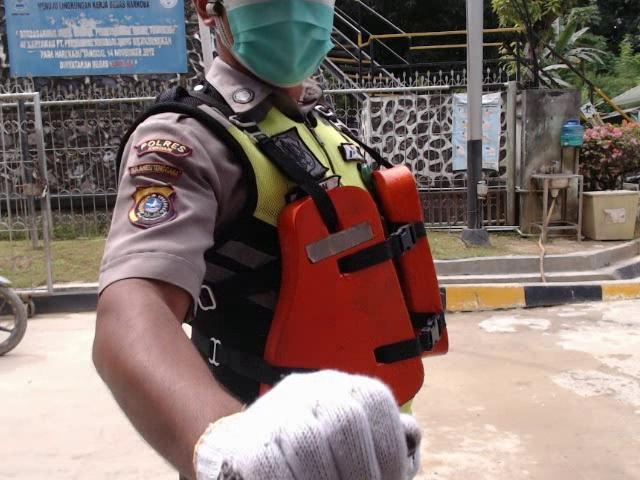vest: (258, 156, 463, 413)
